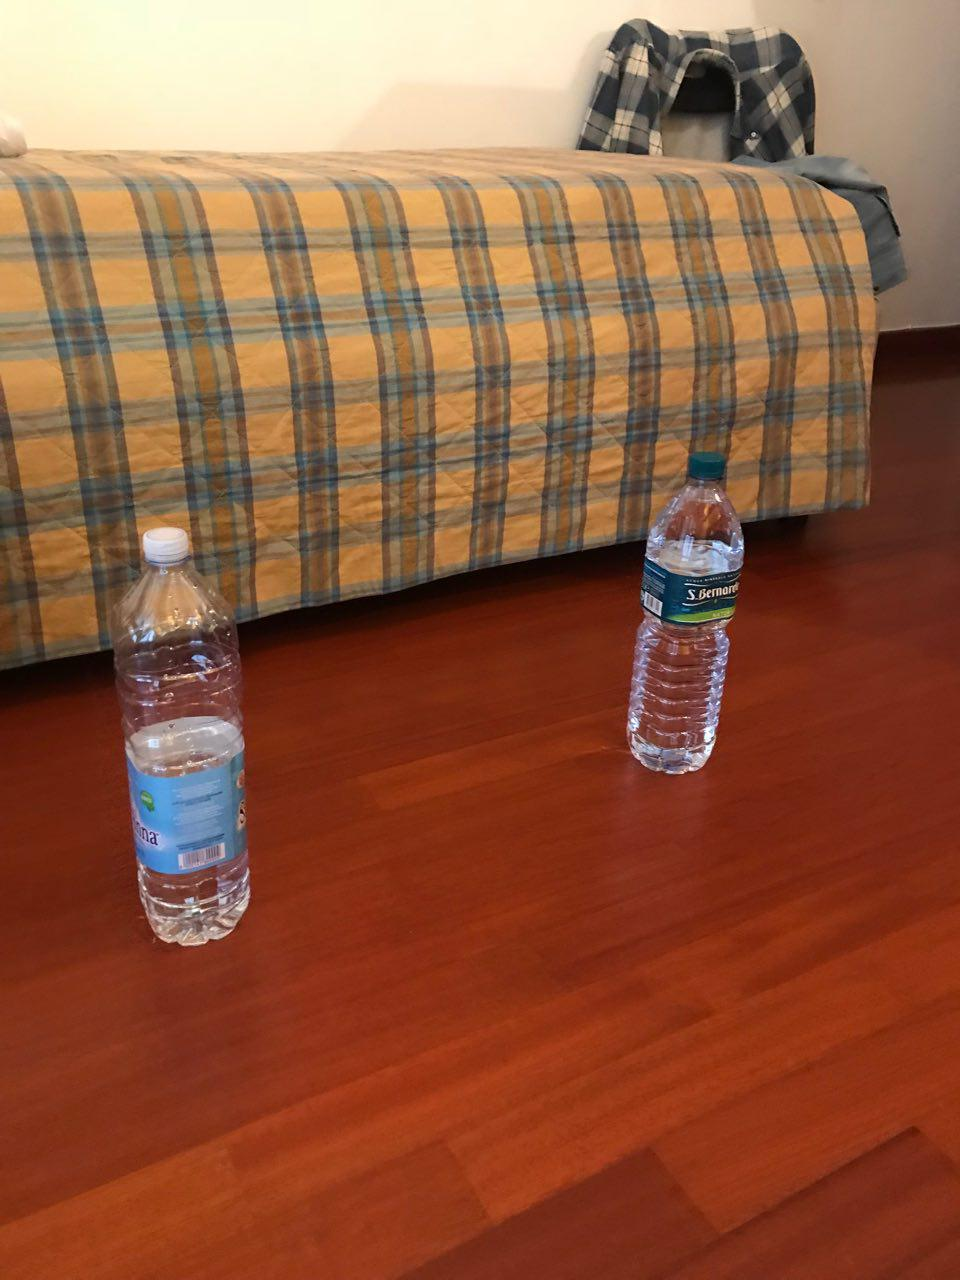san_bernardo: (625, 451, 745, 775)
